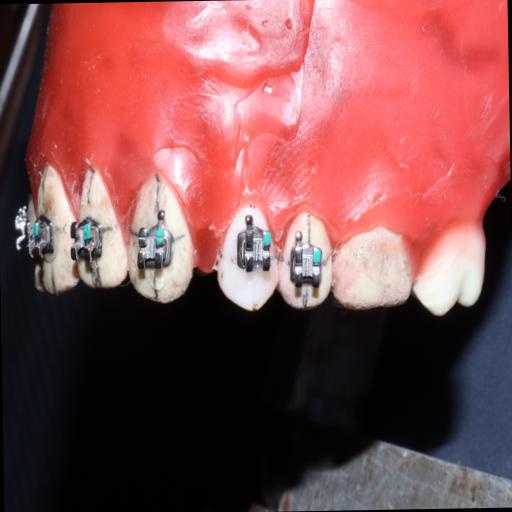correct_brace: (214, 196, 280, 319)
